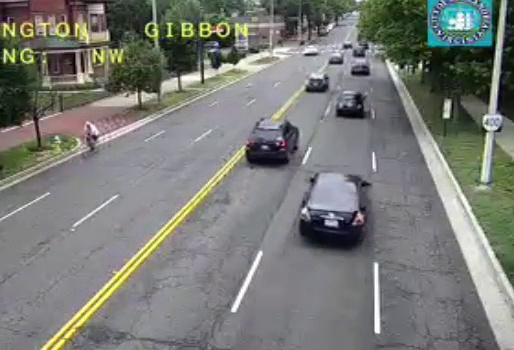car: (297, 172, 366, 240), (245, 119, 298, 162), (336, 90, 365, 114), (305, 73, 327, 91)
